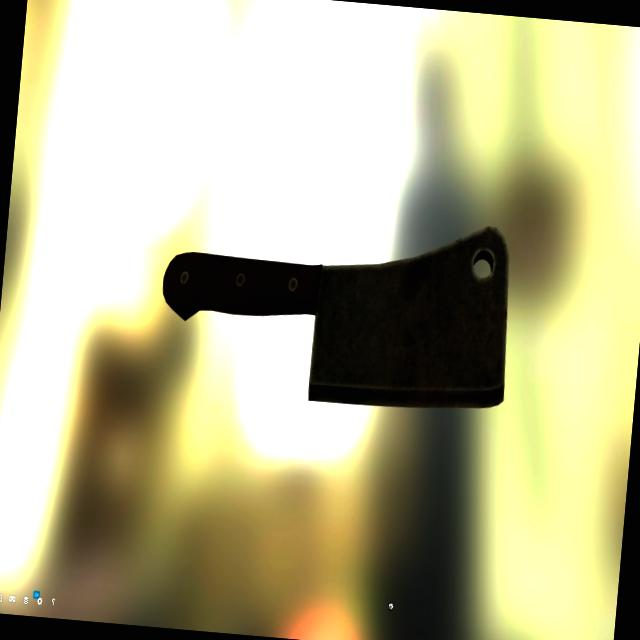cleaver: (158, 200, 515, 401)
